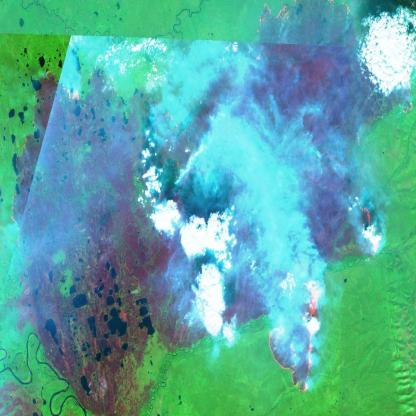fire: (36, 58, 396, 400)
